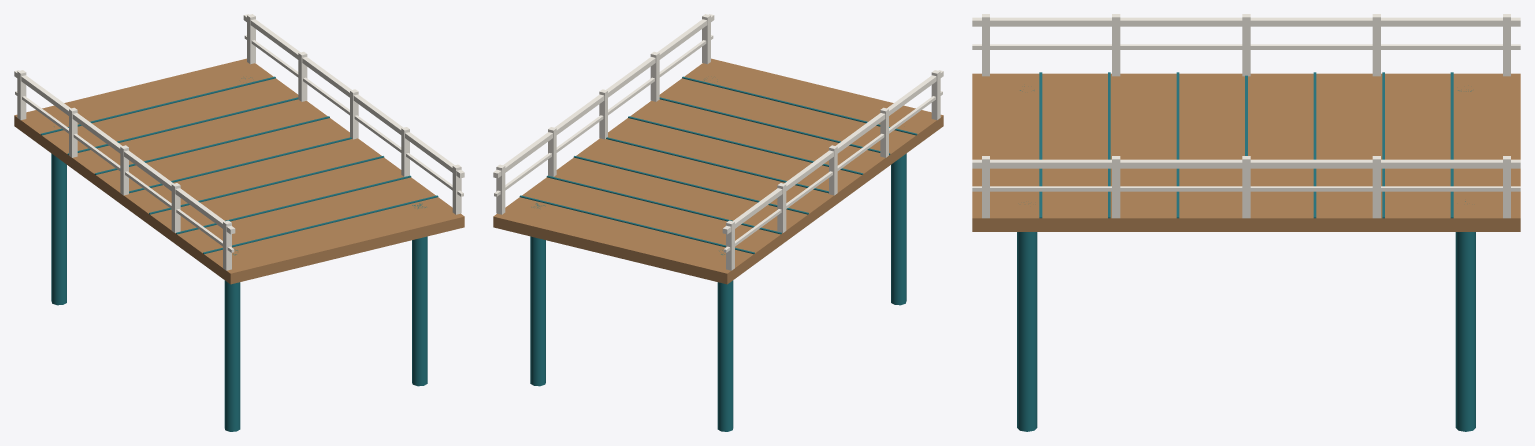
Rendered from pier_deck.glb.
The picture shows the model from 3 angles, left to right: view 1: azimuth 30°, elevation 25°; view 2: azimuth 150°, elevation 25°; view 3: azimuth 270°, elevation 25°; orthographic projection. The views are drawn at different scales.
Parts seen in each view (by area): view 1: pier_deck; view 2: pier_deck; view 3: pier_deck.
Part boxes in pixels (x1,y1,x2,y2): pier_deck: (14,14,464,431); pier_deck: (493,14,943,431); pier_deck: (972,14,1520,431).
Bounding box in the file's own units: 5.02 × 4.55 × 8.
